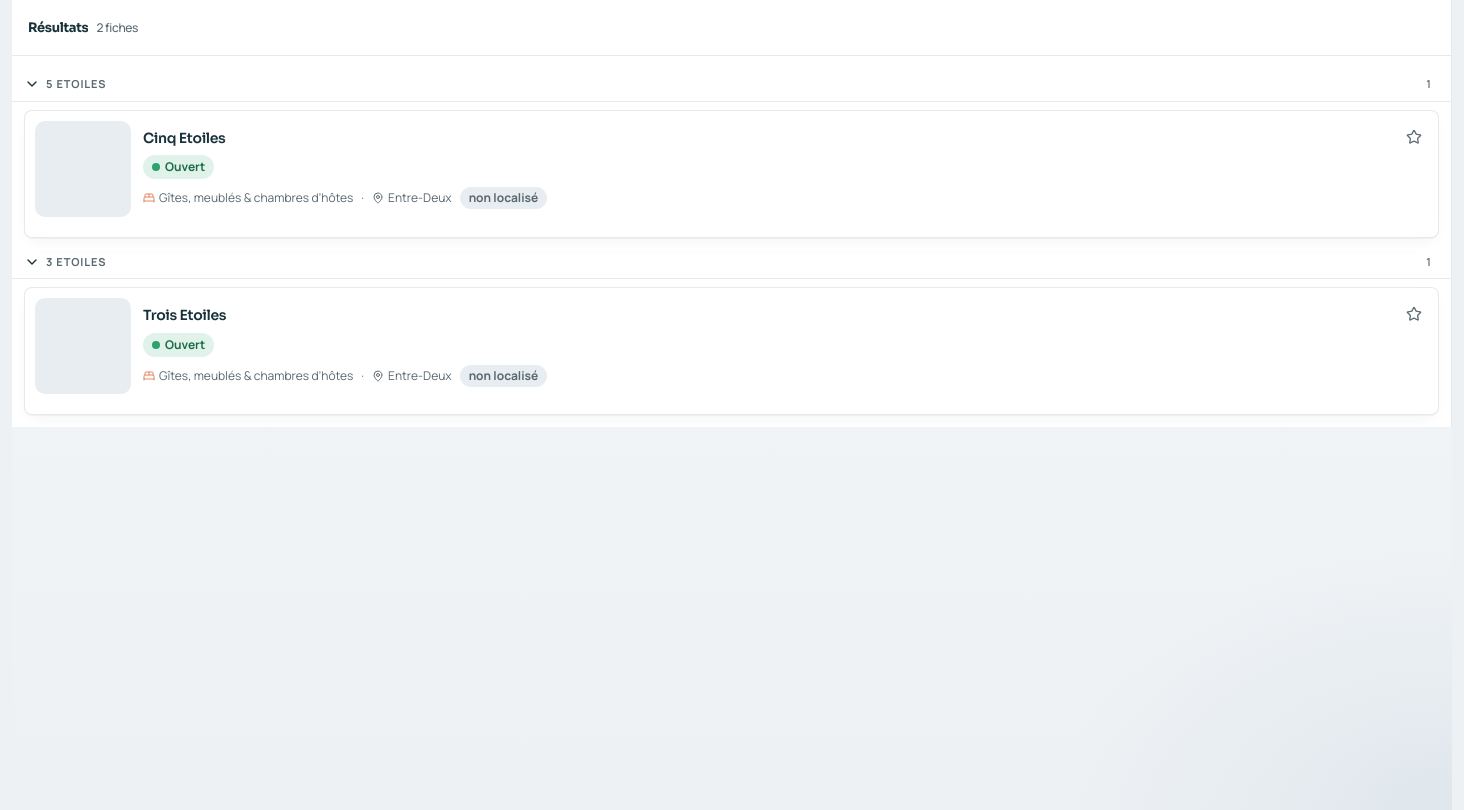
ResultsList › renders grade sections highest-first and collapses a section on header click when gradeSection is set
The width and height of the screenshot is (1464, 810).
Expected: the text "5 etoiles" is shown, x1=46 y1=76 x2=106 y2=92
Expected: the text "3 etoiles" is shown, x1=46 y1=254 x2=106 y2=270
Click the button "5 etoiles 1" at (76, 84), box x1=12 y1=68 x2=1451 y2=102
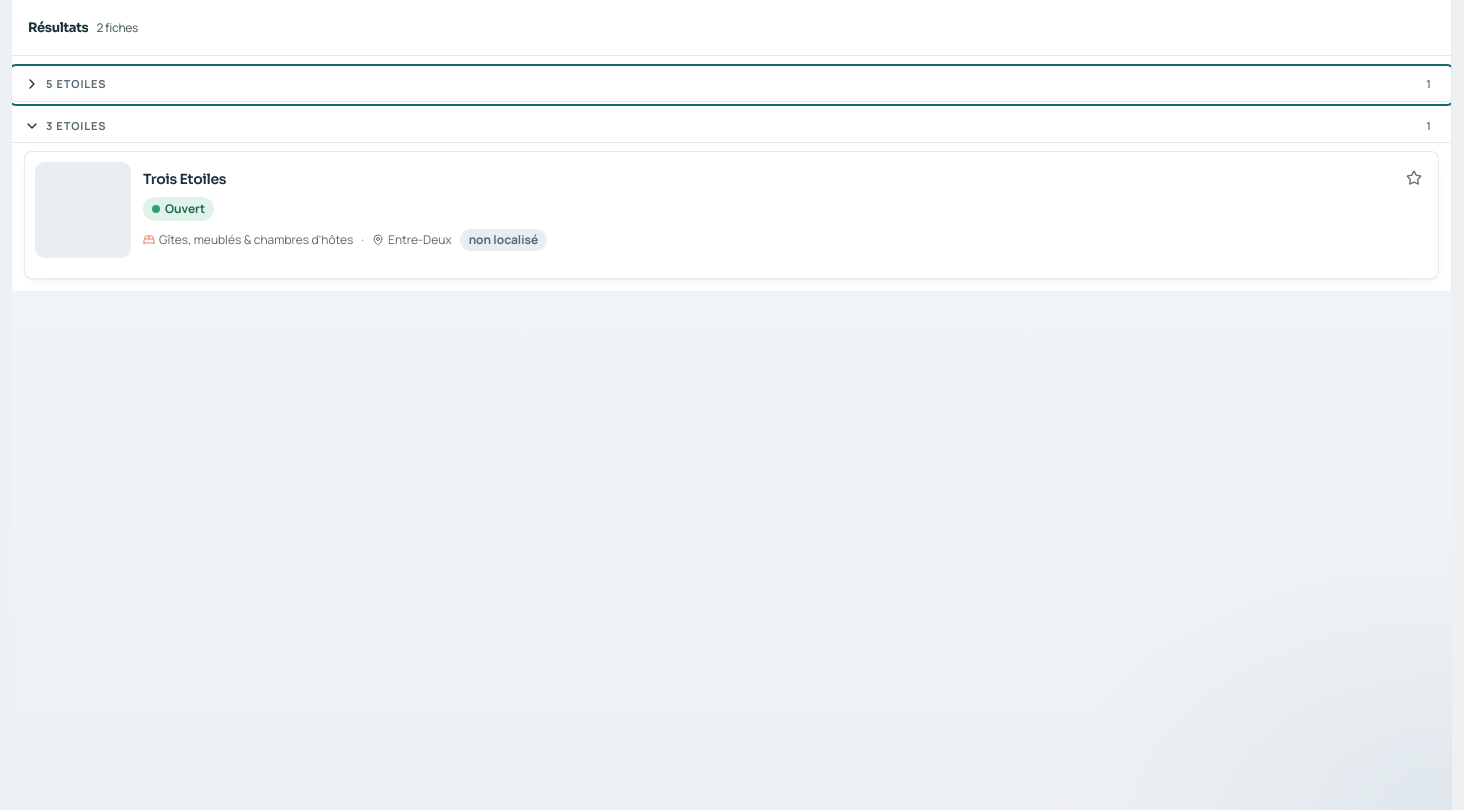
Expected: the button with id "result-card-three-star" is shown, x1=24 y1=151 x2=1439 y2=279
Result: the button with id "result-card-five-star" is gone
